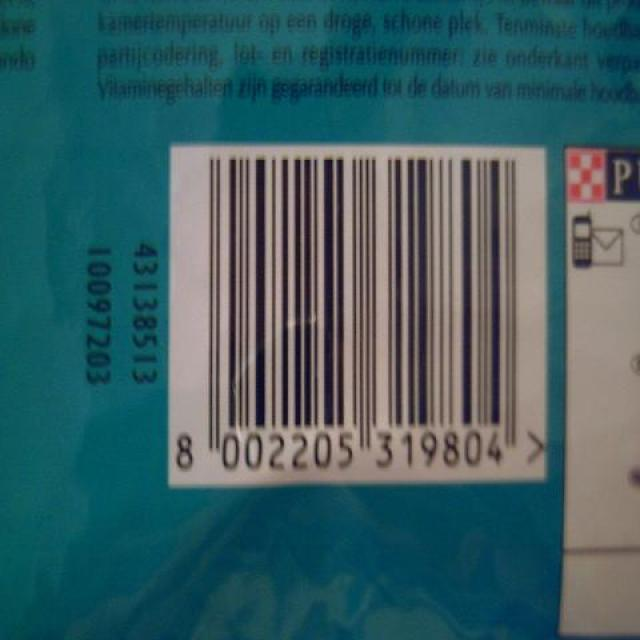Barcode: (169, 149, 548, 480)
